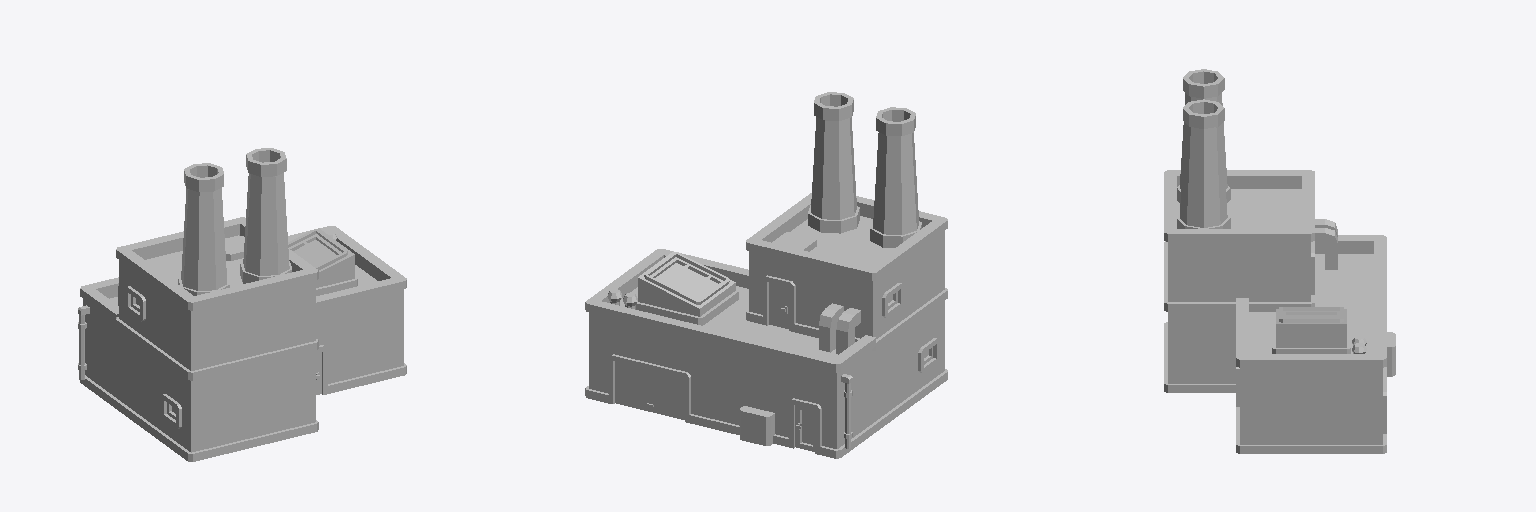
File: industrial_building-e.obj
3 views of the same model, side by side, from view 1: azimuth 30°, elevation 25°; view 2: azimuth 150°, elevation 25°; view 3: azimuth 270°, elevation 25° (orthographic).
Visible parts, largest first — view 1: building-e; view 2: building-e; view 3: building-e.
Part boxes in pixels (x1,y1,x2,y2): building-e: (78, 148, 406, 461); building-e: (585, 92, 947, 458); building-e: (1164, 69, 1395, 453).
Bounding box in the file's own units: 1.68 × 1.65 × 1.29.